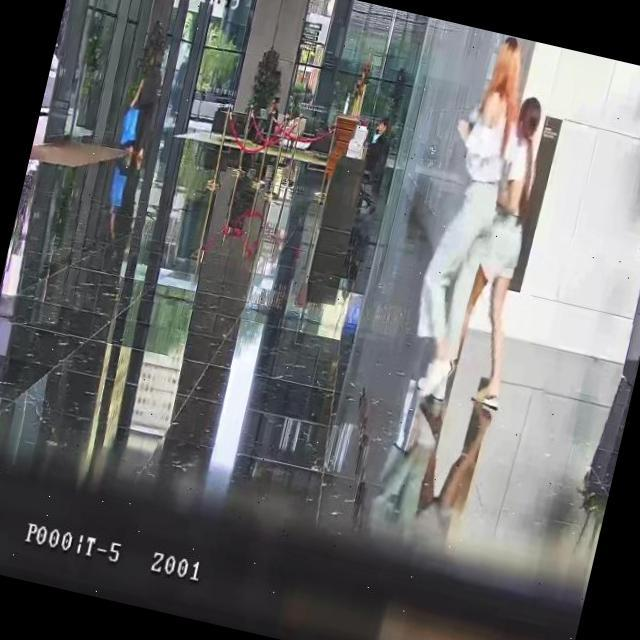person: (385, 30, 536, 450), (439, 90, 568, 418), (120, 48, 170, 164), (362, 114, 391, 174), (262, 95, 282, 134)
